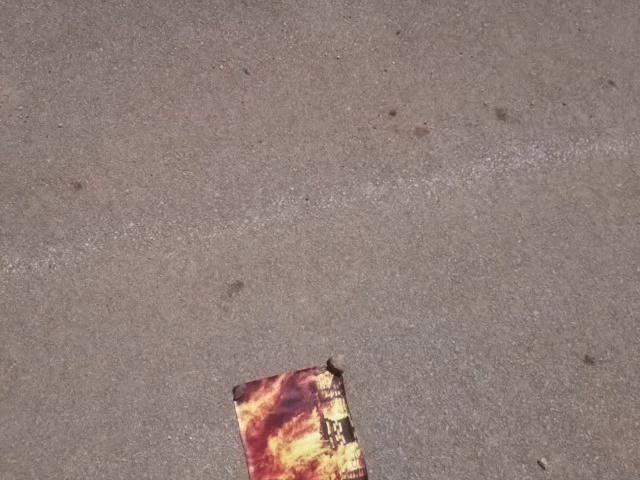fire-poster: (229, 355, 371, 479)
